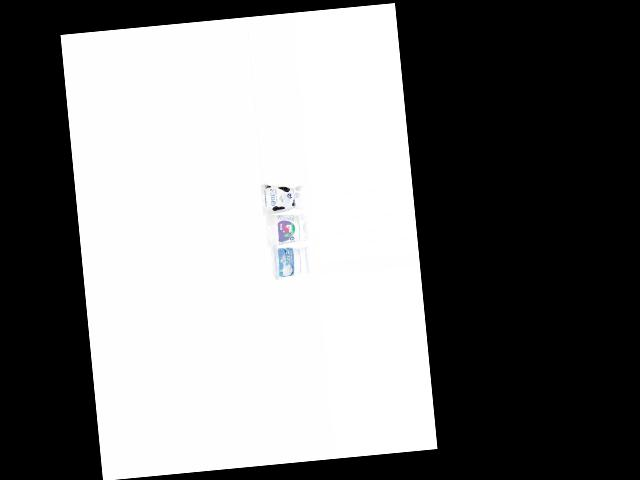cotage: (267, 243, 306, 280)
